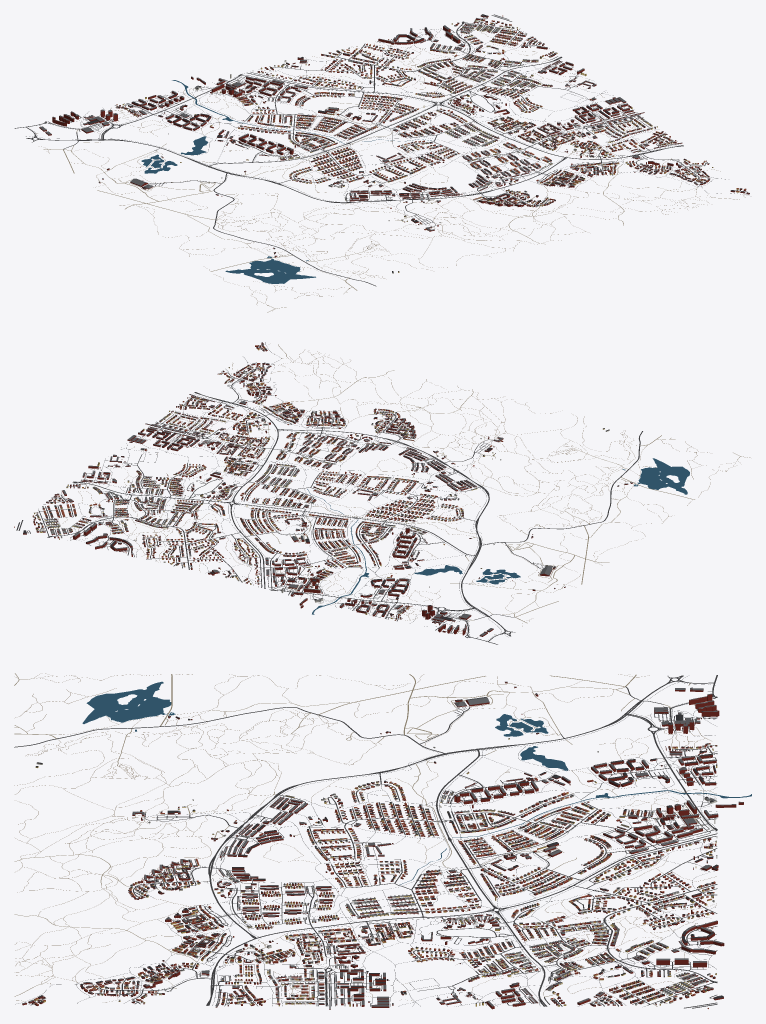
Rendered from vidingsjo_objekt.glb.
3 views of the same model, one above another, from view 1: azimuth 30°, elevation 25°; view 2: azimuth 150°, elevation 25°; view 3: azimuth 270°, elevation 25° (orthographic). The views are drawn at different scales.
Parts seen in each view (by area): view 1: Sjo_0; view 2: Sjo_0; view 3: Sjo_0.
Boxes of the visible parts, x1=… form: Sjo_0: x1=225, y1=258, x2=315, y2=283; Sjo_0: x1=637, y1=458, x2=689, y2=494; Sjo_0: x1=82, y1=681, x2=171, y2=723.
Size of what is drawn, in the model's own units: 3417 by 66.79 by 3201.
